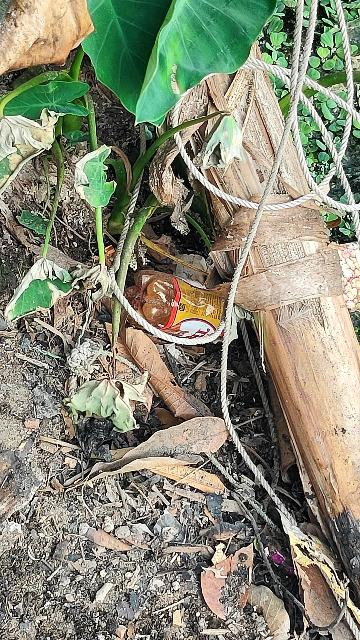bottle: (127, 267, 235, 346)
